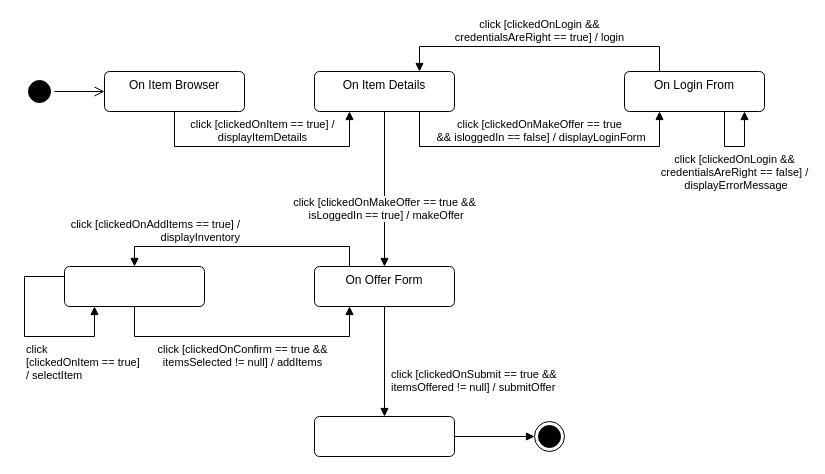
Some shapes in this 825 by 474 pixel diagram are drawn without their labels. Here are the shapes that lost their labels. From the top down, the centre of each, then its label:
pixel 134 286: On Item Selection
pixel 384 436: On My Offers View
